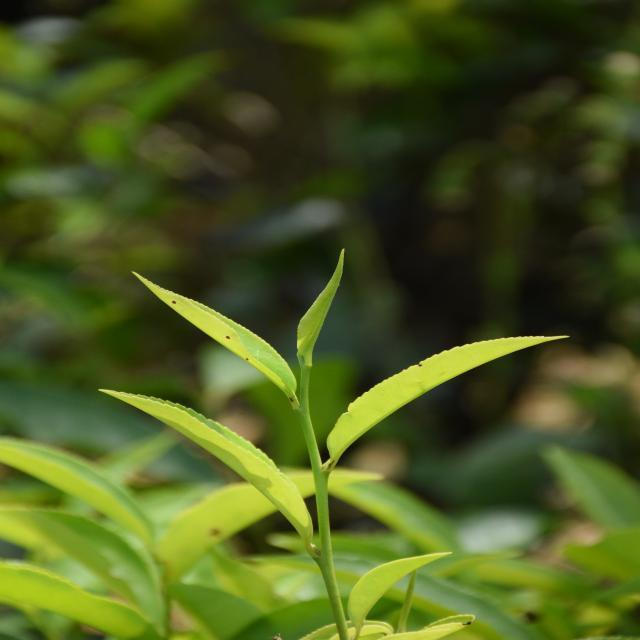Stem: (297, 403, 309, 420)
